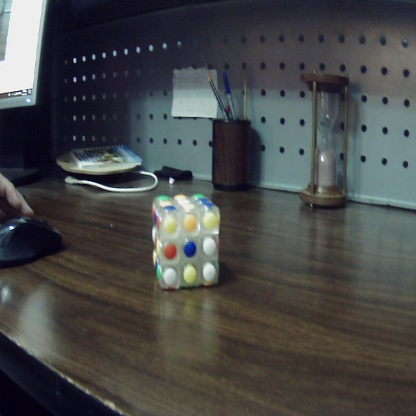Rubix Cube: (151, 192, 221, 289)
